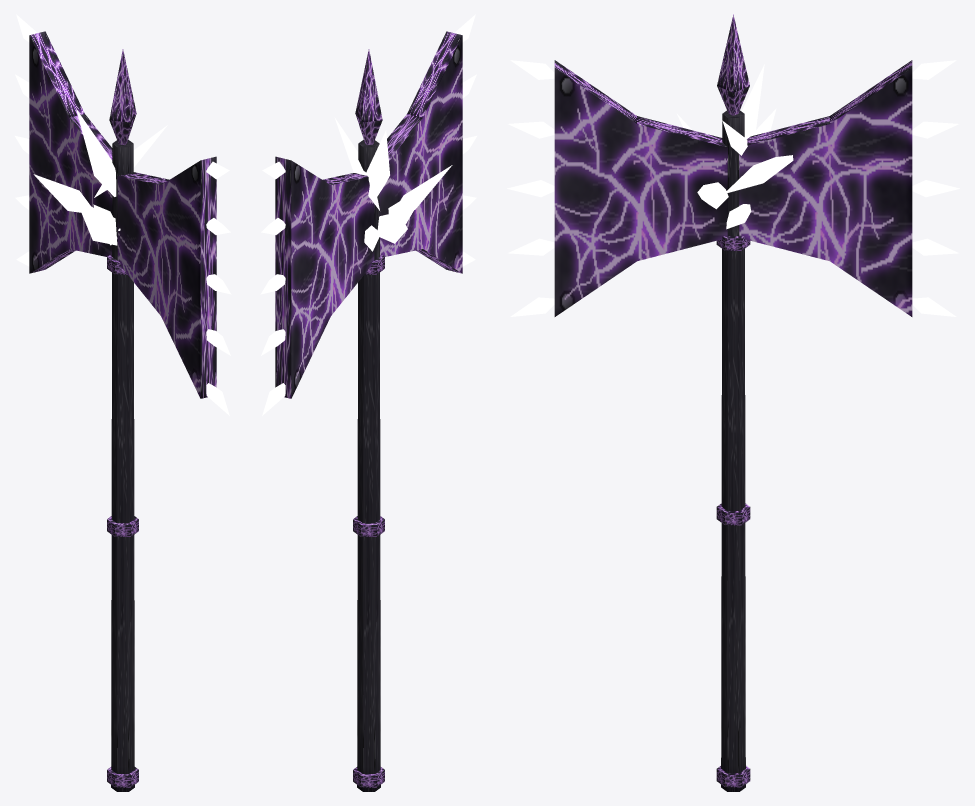
Rendered from CrystalWarAxe.fbx.
3 views of the same model, side by side, from view 1: azimuth 30°, elevation 25°; view 2: azimuth 150°, elevation 25°; view 3: azimuth 270°, elevation 25° (orthographic). The views are drawn at different scales.
Visible parts, largest first — view 1: Head, Handle, Glow; view 2: Head, Handle, Glow; view 3: Head, Handle, Glow.
Part boxes in pixels (left/top/right/bottom): Head: left=29, top=31, right=216, bottom=398; Handle: left=107, top=139, right=138, bottom=791; Glow: left=15, top=14, right=231, bottom=415; Head: left=275, top=31, right=462, bottom=398; Handle: left=353, top=139, right=384, bottom=791; Glow: left=260, top=14, right=476, bottom=415; Head: left=554, top=14, right=912, bottom=316; Handle: left=716, top=110, right=750, bottom=791; Glow: left=507, top=60, right=959, bottom=316.
Size of the model in its own units: 96.06 by 620 by 330.
Materials: 2 (1 with a texture image).
